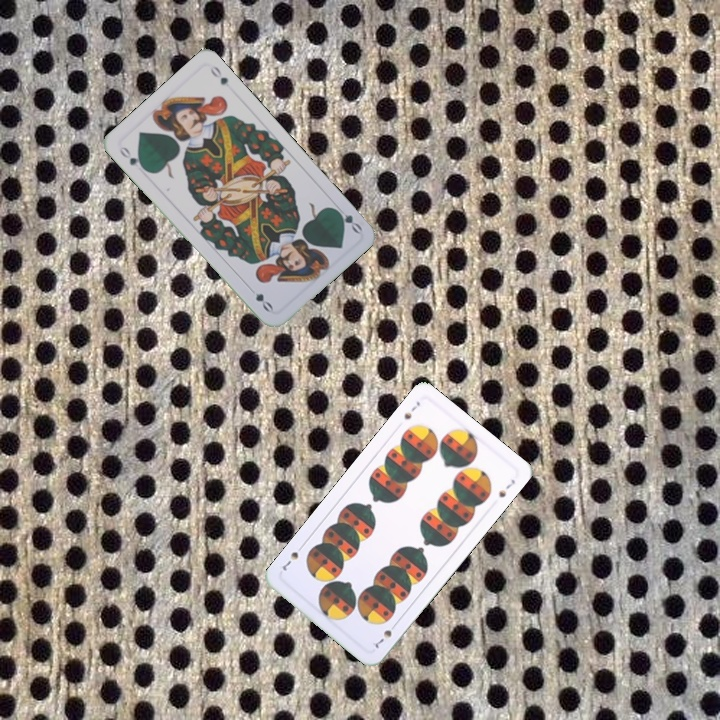GO: (330, 201, 365, 236), (115, 142, 149, 173)
S7: (371, 618, 400, 651), (400, 397, 423, 422)
